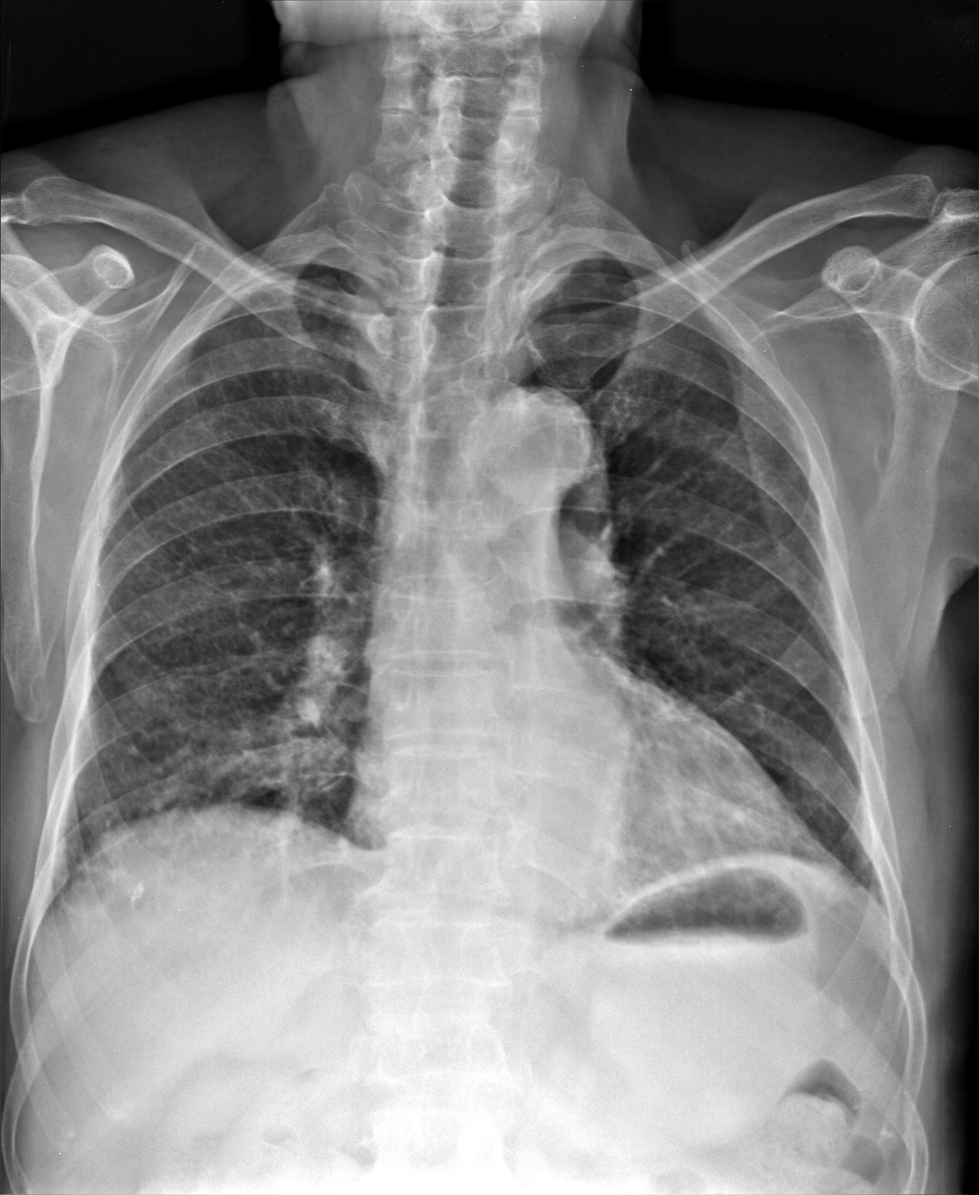Aortic enlargement: (468, 392, 609, 506)
